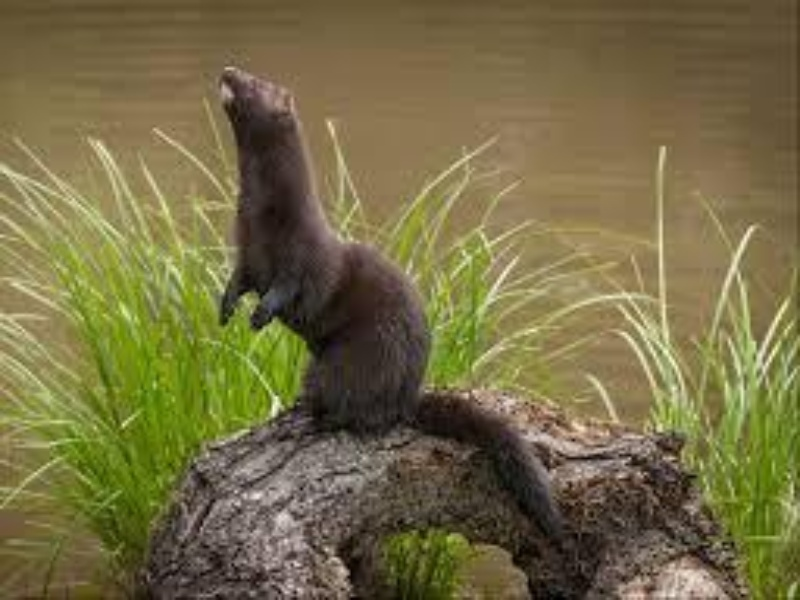minkish: (214, 63, 572, 549)
